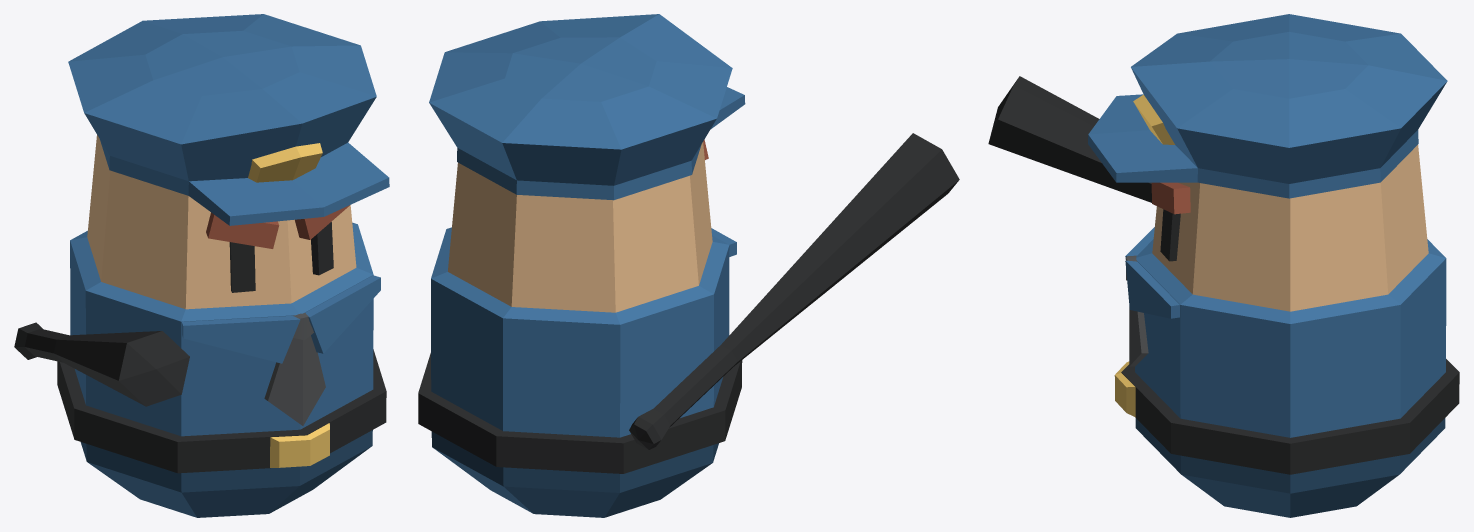
File: Police.fbx
3 views of the same model, side by side, from view 1: azimuth 30°, elevation 25°; view 2: azimuth 150°, elevation 25°; view 3: azimuth 270°, elevation 25° (orthographic).
Parts seen in each view (by area): view 1: police, Stick; view 2: police, Stick; view 3: police, Stick.
Boxes of the visible parts, left/top/right/bottom form: police: left=57, top=14, right=389, bottom=517; Stick: left=14, top=322, right=189, bottom=406; police: left=418, top=14, right=745, bottom=517; Stick: left=629, top=133, right=959, bottom=449; police: left=1088, top=14, right=1459, bottom=517; Stick: left=988, top=76, right=1151, bottom=202.
Size of the model in its own units: 28.22 by 29.61 by 30.52.
